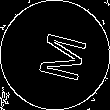M_W: (25, 27, 85, 83)
